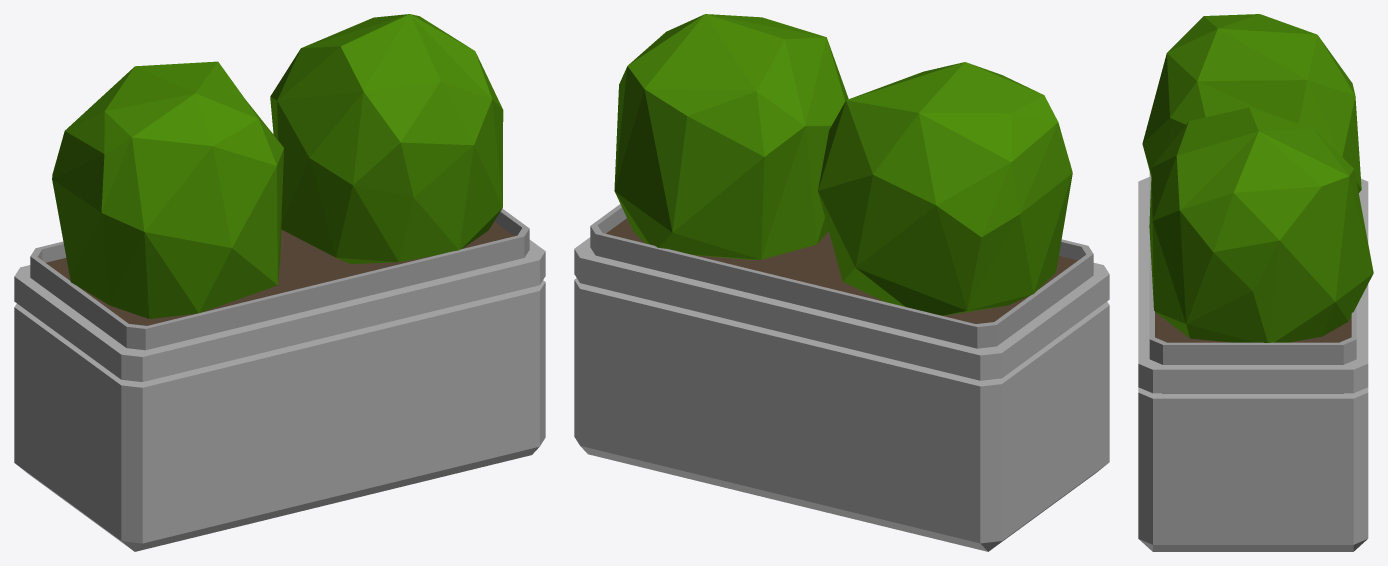
File: VasoLargo_02.fbx
3 views of the same model, side by side, from view 1: azimuth 30°, elevation 25°; view 2: azimuth 150°, elevation 25°; view 3: azimuth 270°, elevation 25° (orthographic). The views are drawn at different scales.
Parts seen in each view (by area): view 1: Vaso2, Cube.016, Terra2; view 2: Vaso2, Cube.016, Terra2; view 3: Cube.016, Vaso2, Terra2.
Part boxes in pixels (box(x1,y1,x2,y2)): Vaso2: box(14, 208, 545, 551); Cube.016: box(52, 14, 503, 318); Terra2: box(46, 221, 513, 325); Vaso2: box(574, 204, 1109, 551); Cube.016: box(614, 14, 1072, 315); Terra2: box(606, 218, 1077, 323); Cube.016: box(1142, 14, 1373, 342); Vaso2: box(1138, 172, 1368, 551); Terra2: box(1155, 312, 1351, 342).
Bounding box in the file's own units: 2 × 1.02 × 1.87.
